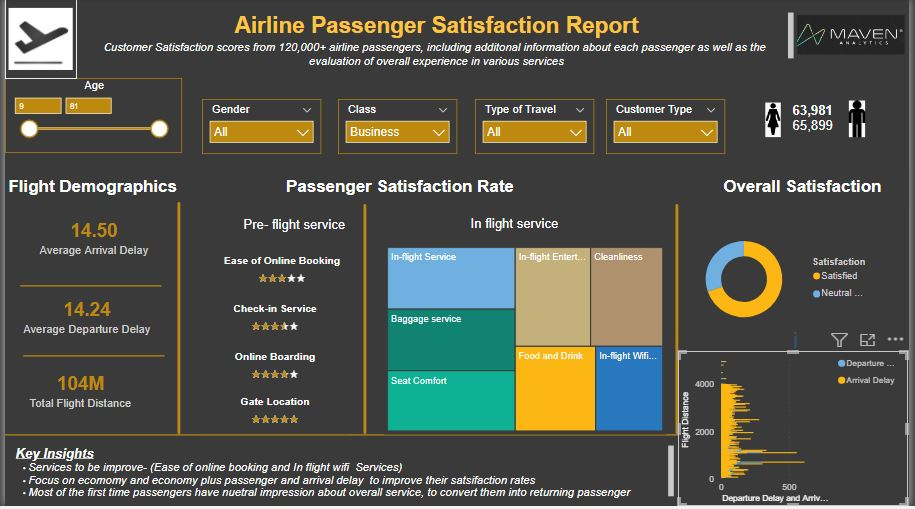

This screenshot's page, from the dashboard's own definition file:
{"tool":"powerbi","page":{"name":"Page 1","canvas":[1280,720],"ordinal":0},"visuals":[{"type":"image","box":[1111,0,169,104.3],"z":0},{"type":"textbox","box":[107.3,16.2,1015.5,88.2],"z":1000},{"type":"slicer","title":"Gender","fields":{"Values":["airline_passenger_satisfaction.Gender"]},"box":[279.2,142.5,169,77.9],"z":2000},{"type":"slicer","title":"Gender","fields":{"Values":["airline_passenger_satisfaction.Customer Type"]},"box":[852.4,142.5,169,77.9],"z":3000},{"type":"slicer","title":"Gender","fields":{"Values":["airline_passenger_satisfaction.Class"]},"box":[471.7,142.5,169,77.9],"z":4000},{"type":"slicer","title":"Gender","fields":{"Values":["airline_passenger_satisfaction.Type of Travel"]},"box":[665.7,142.5,169,77.9],"z":5000},{"type":"slicer","title":"Age","fields":{"Values":["airline_passenger_satisfaction.Age"]},"box":[0,113,251.3,105.8],"z":6000},{"type":"card","fields":{"Values":["Avg(airline_passenger_satisfaction.Arrival Delay)"]},"box":[25,302.7,201.3,67.6],"z":7000},{"type":"textbox","box":[0,248.4,264.5,44.1],"z":8000},{"type":"card","fields":{"Values":["Avg(airline_passenger_satisfaction.Departure Delay)"]},"box":[10.3,415.9,211.6,67.6],"z":9000},{"type":"card","fields":{"Values":["Sum(airline_passenger_satisfaction.Flight Distance)"]},"box":[11.8,520.2,191,67.6],"z":10000},{"type":"shape","box":[20.6,333.6,201.3,149.9],"z":11000},{"type":"shape","box":[0,543.7,989,149.9],"z":12000},{"type":"shape","box":[25,432.1,201.3,149.9],"z":13000},{"type":"textbox","box":[655.4,302.7,251.3,44.1],"z":14000},{"type":"treemap","fields":{"Values":["Avg(airline_passenger_satisfaction.In-flight Service)","Avg(airline_passenger_satisfaction.Food and Drink)","Avg(airline_passenger_satisfaction.In-flight Wifi Service)","Avg(airline_passenger_satisfaction.Seat Comfort)","Avg(airline_passenger_satisfaction.Baggage Handling)","Avg(airline_passenger_satisfaction.Cleanliness)","Avg(airline_passenger_satisfaction.In-flight Entertainment)"]},"box":[537.9,348.3,399.7,270.4],"z":15000},{"type":"textbox","box":[304.2,248.4,509.9,44.1],"z":16000},{"type":"donutChart","title":"Overall satisfaction","fields":{"Category":["airline_passenger_satisfaction.Satisfaction"],"Y":["CountNonNull(airline_passenger_satisfaction.Satisfaction)"]},"box":[944.9,326.2,286.6,145.5],"z":17000},{"type":"ratingsvisual001","fields":{"measure":["Avg(airline_passenger_satisfaction.Ease of Online Booking)"]},"box":[289.5,364.5,207.2,54.4],"z":18000},{"type":"ratingsvisual001","fields":{"measure":["Avg(airline_passenger_satisfaction.Check-in Service)"]},"box":[279.2,432.1,207.2,54.4],"z":19000},{"type":"ratingsvisual001","fields":{"measure":["Avg(airline_passenger_satisfaction.Online Boarding)"]},"box":[279.2,499.7,207.2,54.4],"z":20000},{"type":"ratingsvisual001","fields":{"measure":["Sum(airline_passenger_satisfaction.Gate Location)"]},"box":[279.2,564.3,207.2,54.4],"z":21000},{"type":"textbox","box":[279.2,304.2,261.6,44.1],"z":22000},{"type":"shape","box":[145.5,289.5,201.3,329.2],"z":23000},{"type":"shape","box":[410,292.4,201.3,326.2],"z":24000},{"type":"image","box":[0,0,101.4,114.6],"z":25000},{"type":"image","box":[1044.9,142.5,86.7,58.8],"z":26000},{"type":"image","box":[1165.4,139.6,83.8,61.7],"z":27000},{"type":"textbox","box":[1111,142.5,73.5,111.7],"z":28000},{"type":"textbox","box":[978.7,248.4,301.3,44.1],"z":29000},{"type":"shape","box":[852.4,292.4,201.3,326.2],"z":30000},{"type":"textbox","box":[10.3,629,943.5,91.1],"z":31000},{"type":"barChart","fields":{"Y":["Avg(airline_passenger_satisfaction.Departure Delay)","Avg(airline_passenger_satisfaction.Arrival Delay)"],"Category":["airline_passenger_satisfaction.Flight Distance"]},"box":[953.8,499.7,326.2,220.4],"z":31001}]}

Visuals, with their boxes in screenshot pixels (x1, y1, x2, y2), scaled from the page's 1280x720 canvas onto the 915x509 screenshot:
image: 794, 0, 914, 74
textbox: 77, 11, 803, 74
"Gender" slicer: 200, 101, 320, 156
"Gender" slicer: 609, 101, 730, 156
"Gender" slicer: 337, 101, 458, 156
"Gender" slicer: 476, 101, 597, 156
"Age" slicer: 0, 80, 180, 155
card - Avg(airline_passenger_satisfaction.Arrival Delay): 18, 214, 162, 262
textbox: 0, 176, 189, 207
card - Avg(airline_passenger_satisfaction.Departure Delay): 7, 294, 159, 342
card - Sum(airline_passenger_satisfaction.Flight Distance): 8, 368, 145, 416
shape: 15, 236, 159, 342
shape: 0, 384, 707, 490
shape: 18, 305, 162, 411
textbox: 469, 214, 648, 245
treemap - Avg(airline_passenger_satisfaction.In-flight Service) x Avg(airline_passenger_satisfaction.Food and Drink): 385, 246, 670, 437
textbox: 217, 176, 582, 207
"Overall satisfaction" donutChart: 675, 231, 880, 333
ratingsvisual001 - Avg(airline_passenger_satisfaction.Ease of Online Booking): 207, 258, 355, 296
ratingsvisual001 - Avg(airline_passenger_satisfaction.Check-in Service): 200, 305, 348, 344
ratingsvisual001 - Avg(airline_passenger_satisfaction.Online Boarding): 200, 353, 348, 392
ratingsvisual001 - Sum(airline_passenger_satisfaction.Gate Location): 200, 399, 348, 437
textbox: 200, 215, 387, 246
shape: 104, 205, 248, 437
shape: 293, 207, 437, 437
image: 0, 0, 72, 81
image: 747, 101, 809, 142
image: 833, 99, 893, 142
textbox: 794, 101, 847, 180
textbox: 700, 176, 914, 207
shape: 609, 207, 753, 437
textbox: 7, 445, 682, 508
barChart - Avg(airline_passenger_satisfaction.Departure Delay) x Avg(airline_passenger_satisfaction.Arrival Delay): 682, 353, 914, 508
